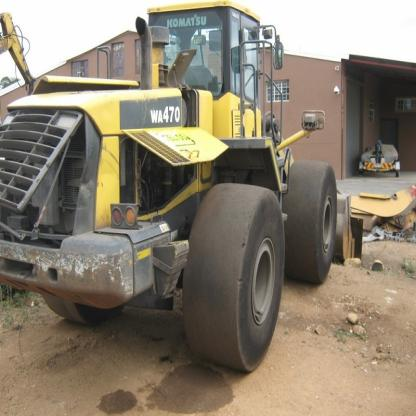bull_dozer/loader/grader: (9, 4, 370, 372)
